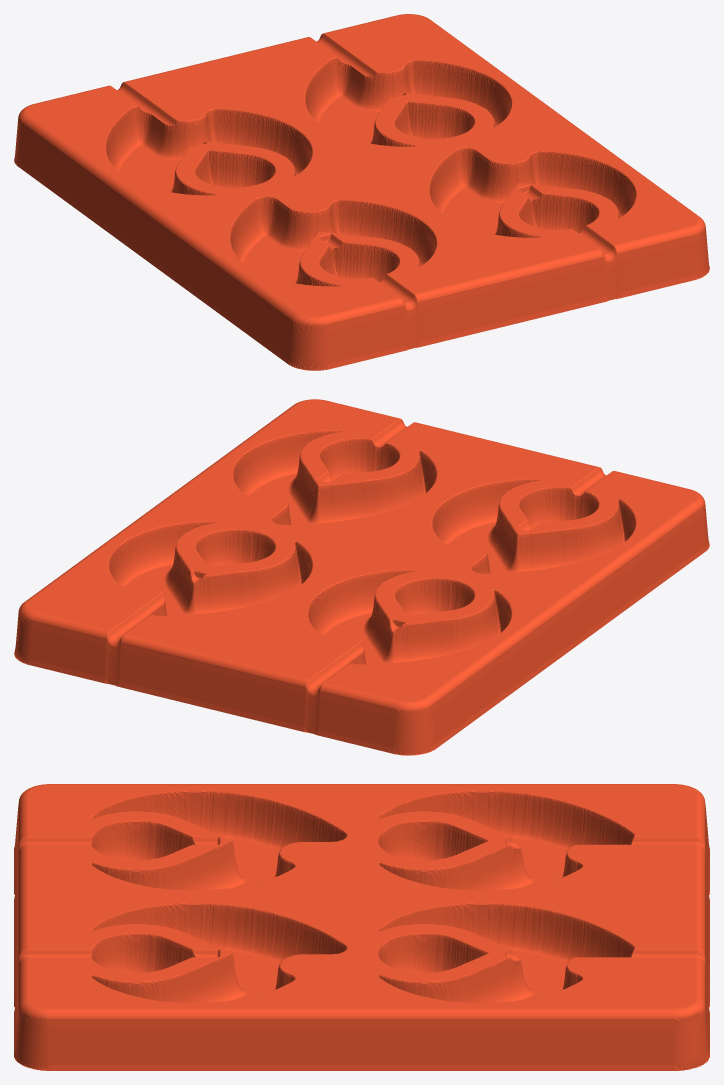
The model's file is mold.glb.
The picture shows the model from 3 angles, top to bottom: view 1: azimuth 30°, elevation 25°; view 2: azimuth 150°, elevation 25°; view 3: azimuth 270°, elevation 25°; orthographic projection. The views are drawn at different scales.
Parts seen in each view (by area): view 1: geometry_0; view 2: geometry_0; view 3: geometry_0.
Boxes of the visible parts, <box> form: geometry_0: <box>14,14,709,370</box>; geometry_0: <box>14,399,709,755</box>; geometry_0: <box>14,784,709,1070</box>.
Bounding box in the file's own units: 0.139 × 0.0155 × 0.1735.
